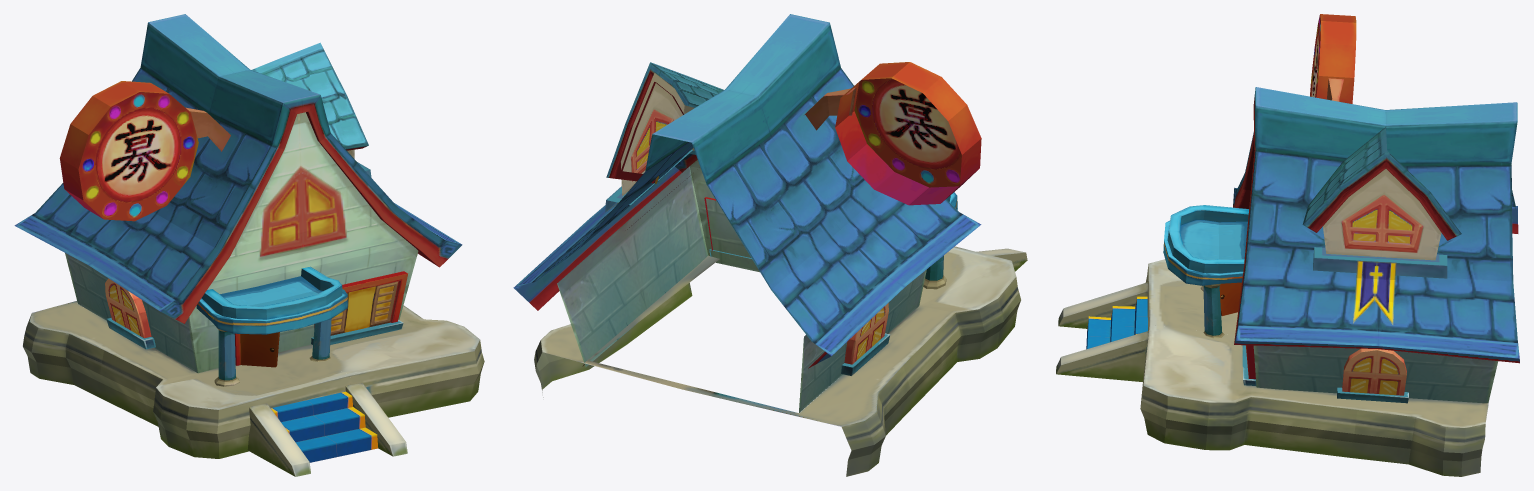
3 renders of one model, left to right at view 1: azimuth 30°, elevation 25°; view 2: azimuth 150°, elevation 25°; view 3: azimuth 270°, elevation 25°, orthographic. The views are drawn at different scales.
Parts seen in each view (by area): view 1: Object153s; view 2: Object153s; view 3: Object153s.
Boxes of the visible parts, x1=… form: Object153s: x1=14, y1=14, x2=484, y2=476; Object153s: x1=513, y1=14, x2=1027, y2=476; Object153s: x1=1056, y1=14, x2=1519, y2=476.
Size of the model in its own units: 360 by 322 by 419.
